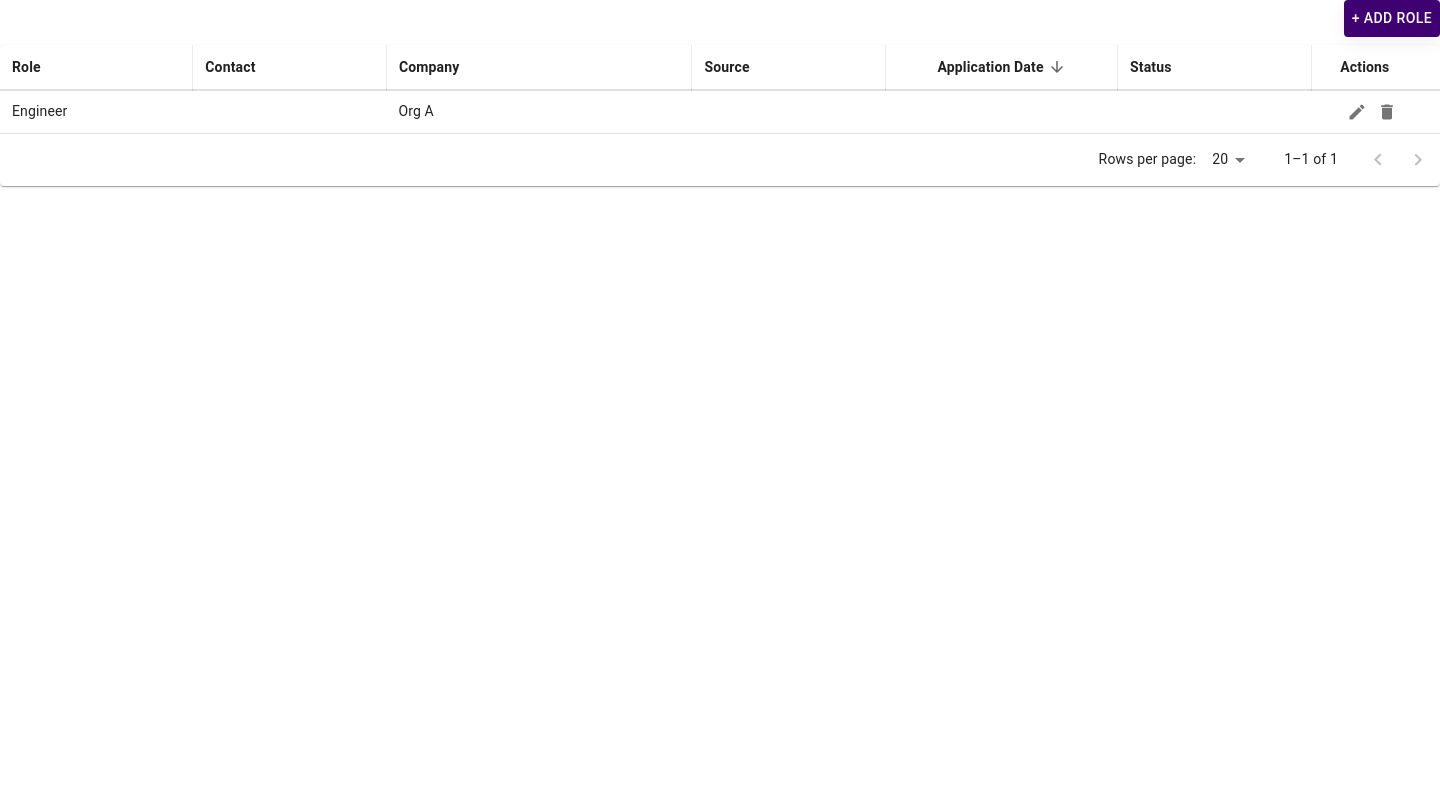
RolesTable delete flow › deletes role after confirmation
Expected: the text "Engineer" is shown, [12,104,68,120]
Click the button named "Delete role 20".
click(1387, 112)  # box [1372,96,1402,126]
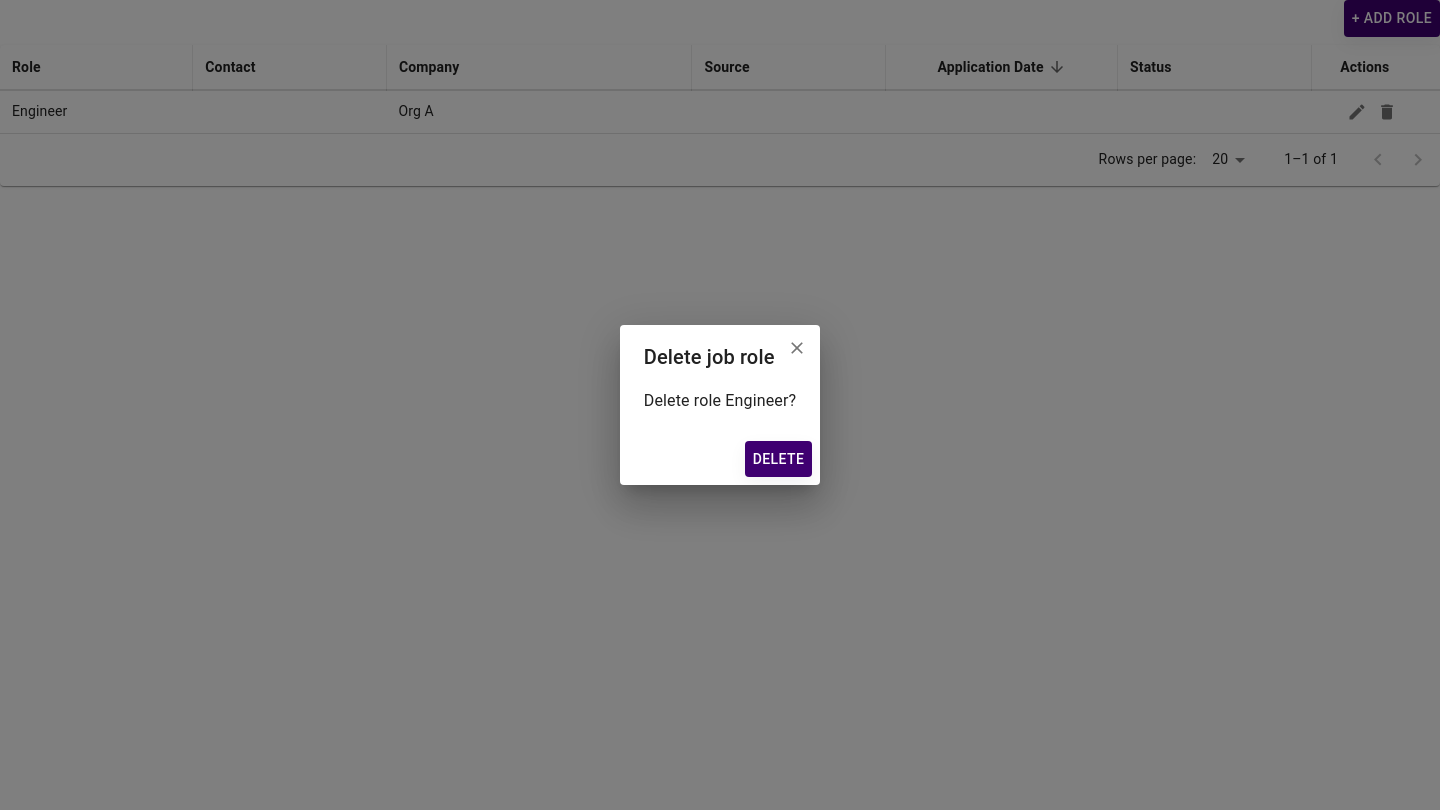
Result: the heading "Delete job role" is shown at [644,345,774,369]
// confirm dialog should appear with current wording
Click the button "Delete".
click(778, 459)  # box [745,441,812,477]
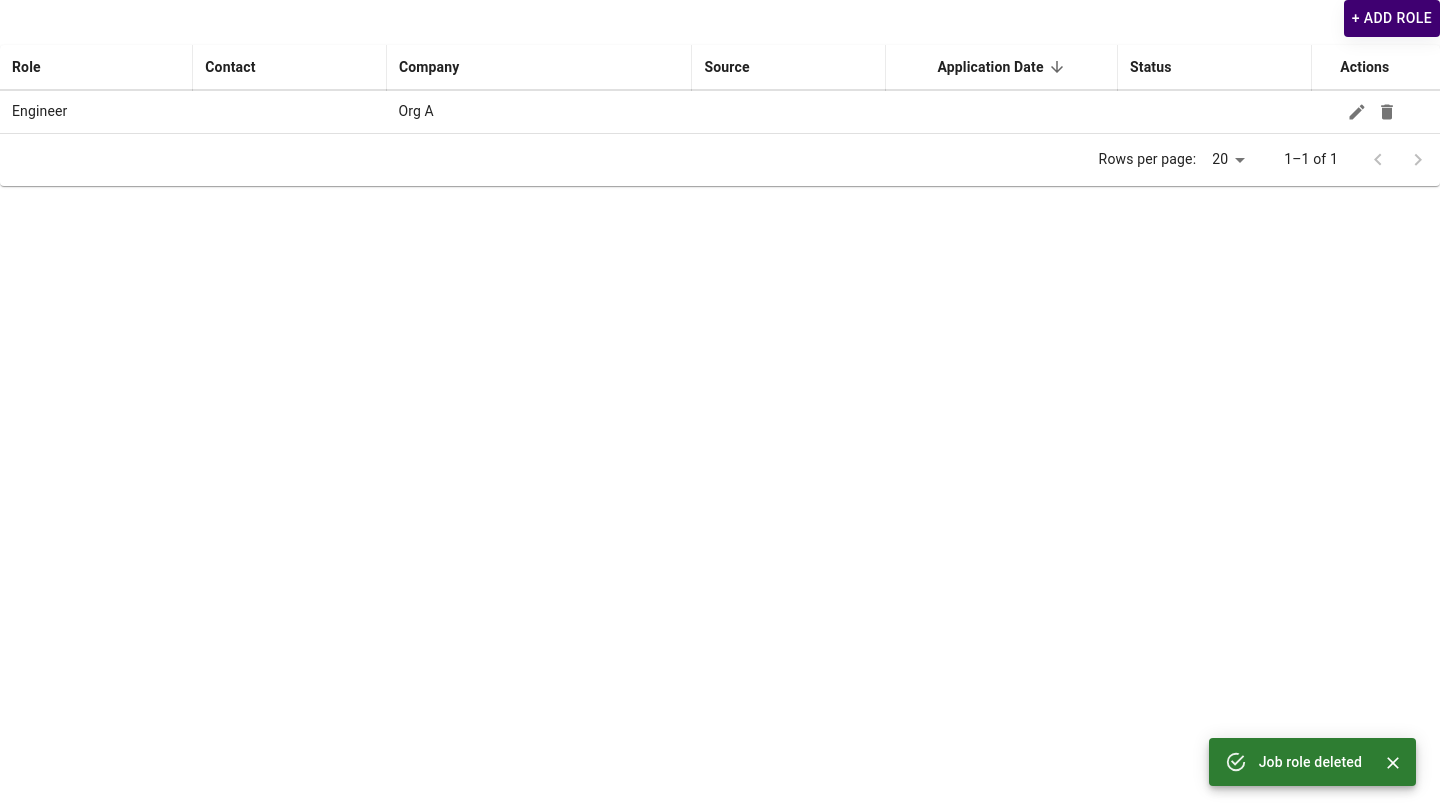
Result: the text "Job role deleted" is shown at [1259,754,1362,770]
